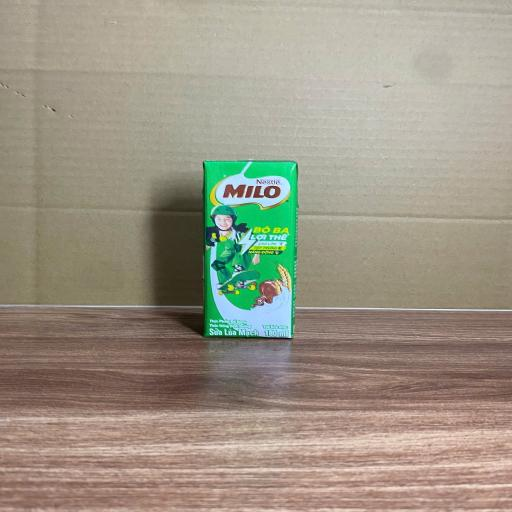milo: (202, 161, 294, 340)
